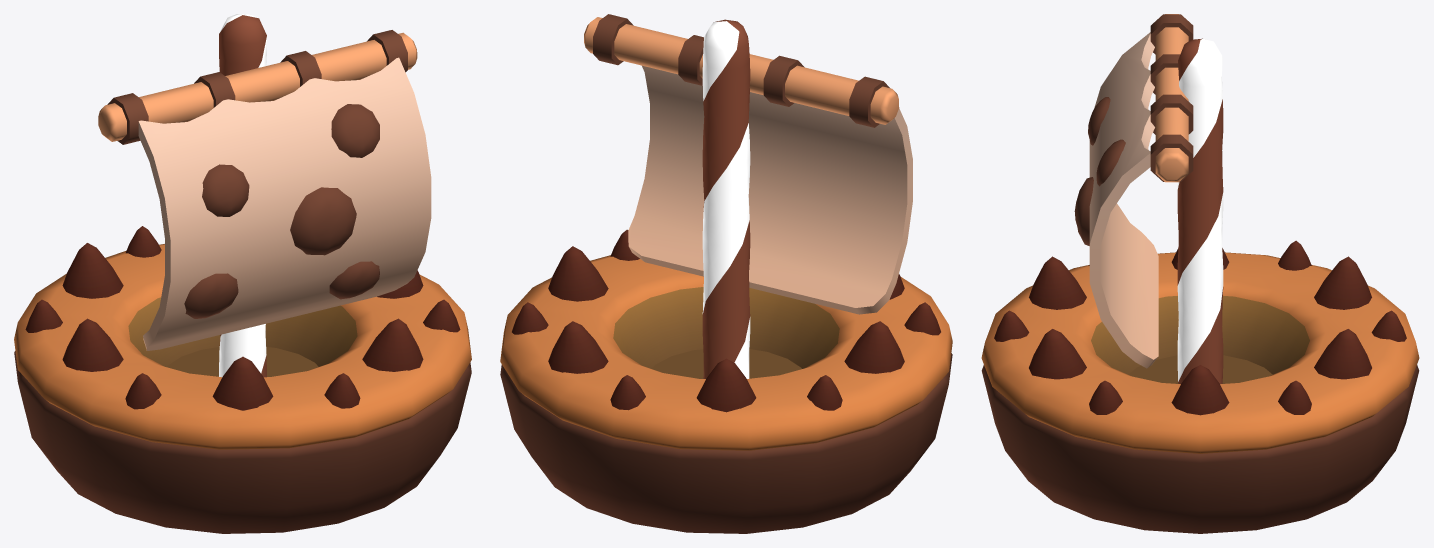
File: SweetBoat_02.glb
3 views of the same model, side by side, from view 1: azimuth 30°, elevation 25°; view 2: azimuth 150°, elevation 25°; view 3: azimuth 270°, elevation 25° (orthographic). The views are drawn at different scales.
Visible parts, largest first — view 1: SweetBoat_02; view 2: SweetBoat_02; view 3: SweetBoat_02.
Boxes of the visible parts, x1,y1,x2,y2 form: SweetBoat_02: (14,14,471,533); SweetBoat_02: (500,14,952,533); SweetBoat_02: (981,14,1419,533).
Bounding box in the file's own units: 4.85 × 5.27 × 4.85.
2 materials, 2 textured.
